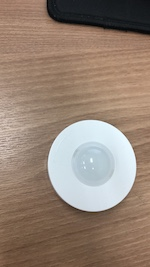bulb: (48, 119, 137, 212)
